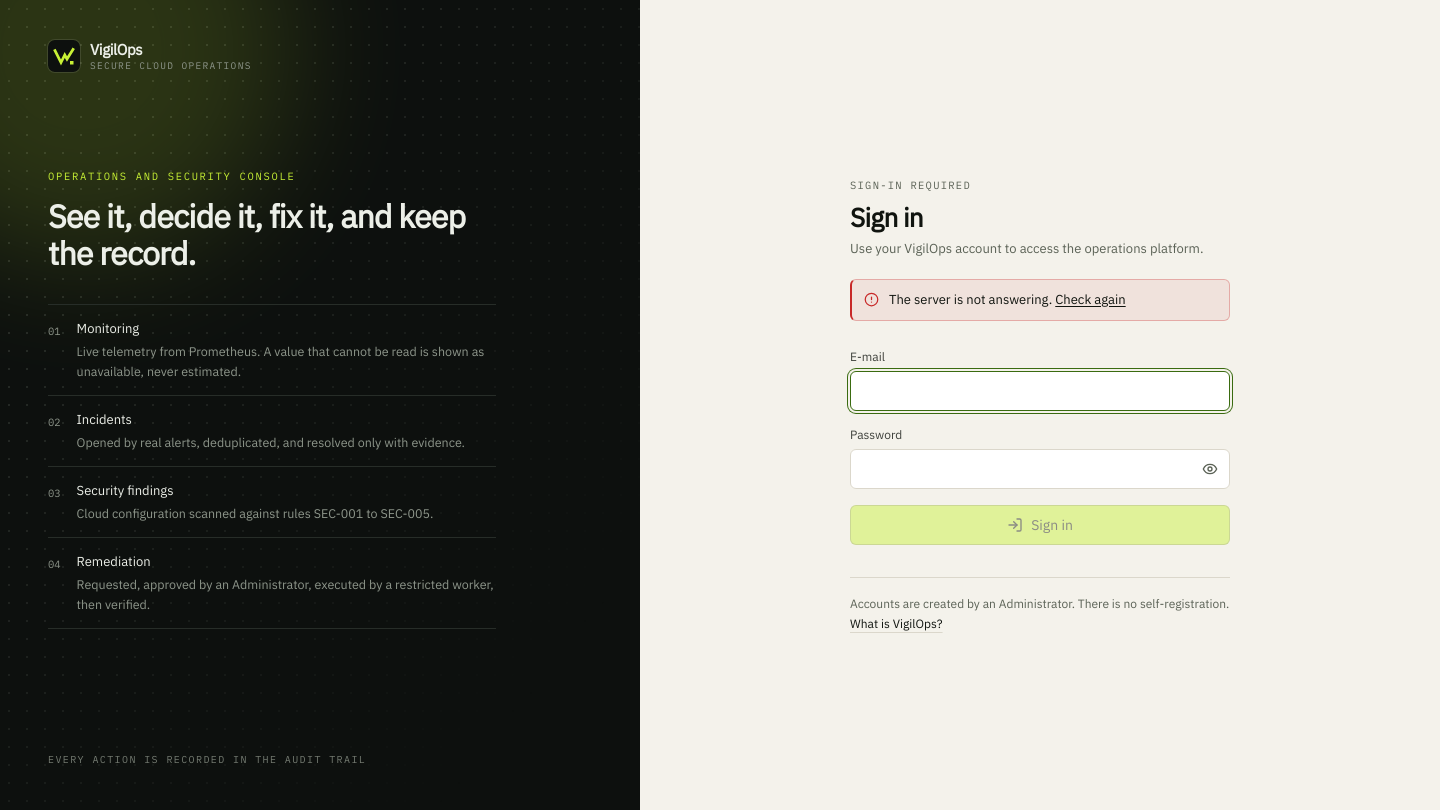
Scenario: sign-in page while the server is not answering yet › gives up after the time limit and offers to check again
The image size is (1440, 810).
Expected: the text "The server is not answering. Check again" is shown, [889,290,1126,310]
Step 1. Click the button "Check again" → coordinates (1090, 300), box [1055,290,1126,310]
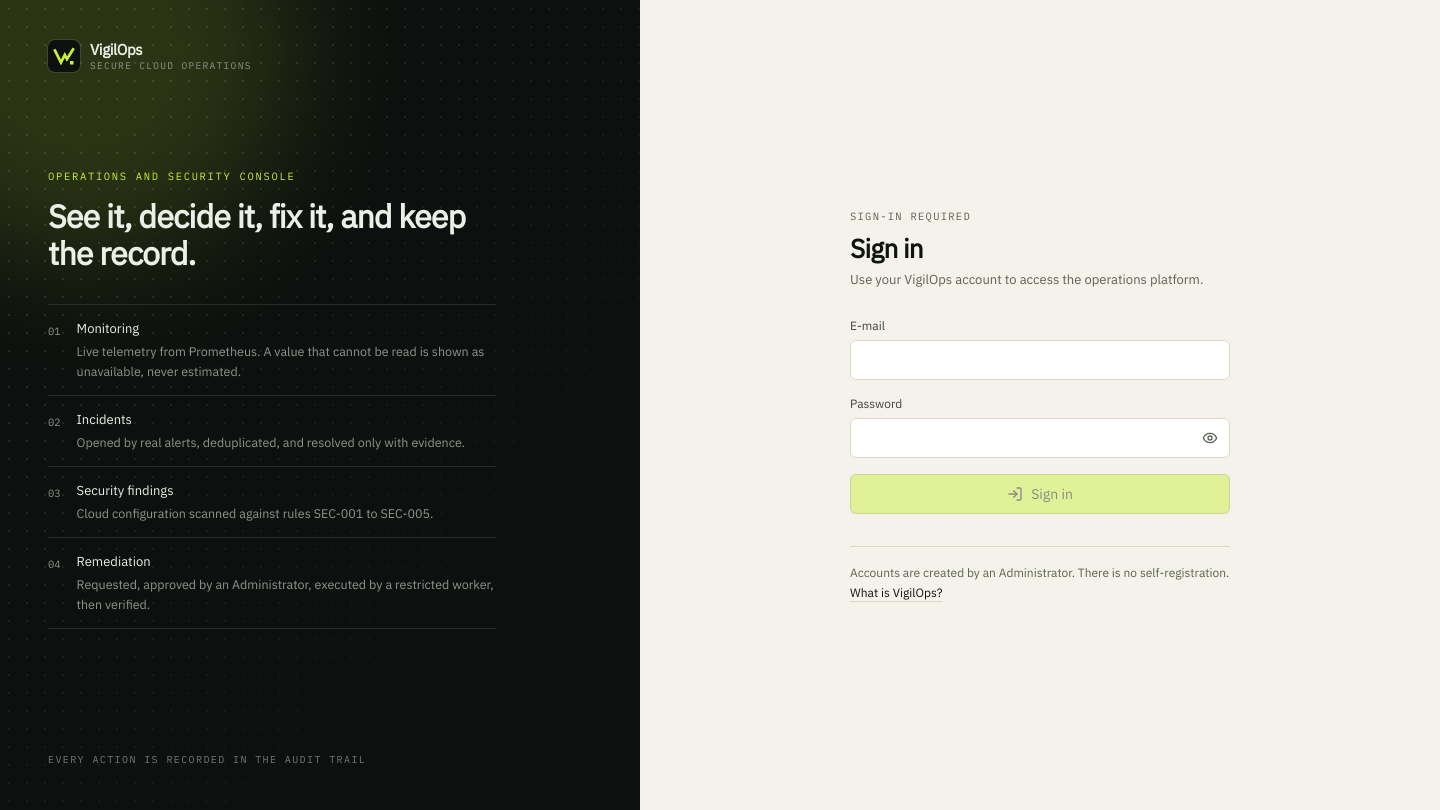
Expected: the text "The server is not answering" is gone
